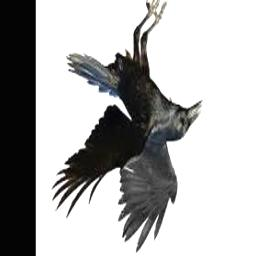Crow: (51, 0, 203, 252)
